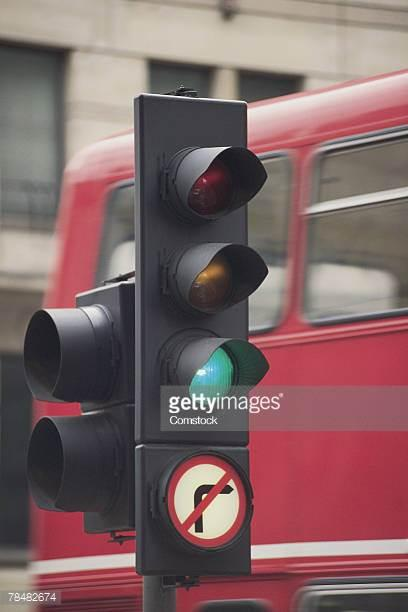no_right_turn: (166, 451, 248, 548)
